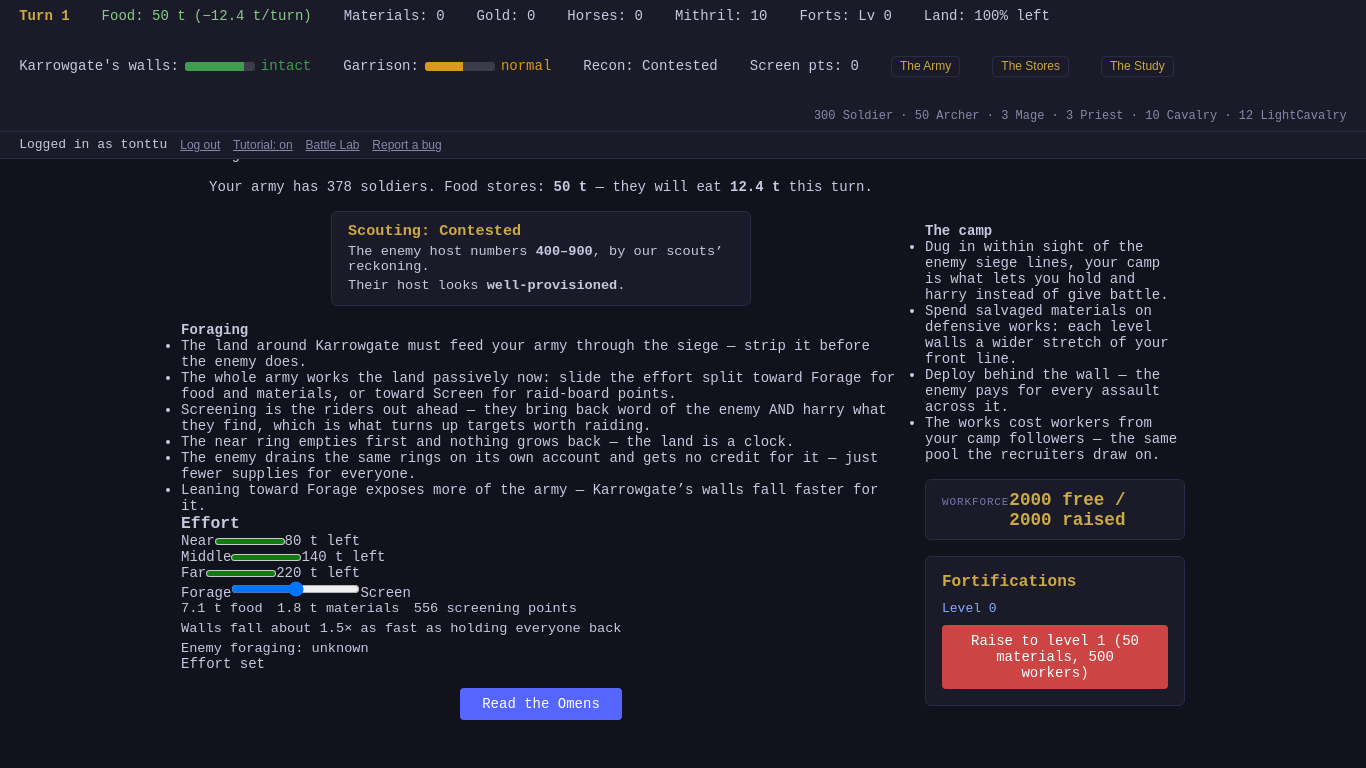
Test: a choice-fate in the day report › shows the option cards and blocks the reveal until the player chooses
(page scrolled)
Click the button with test id "to-omens" at [541, 704], box [460,688,622,720]
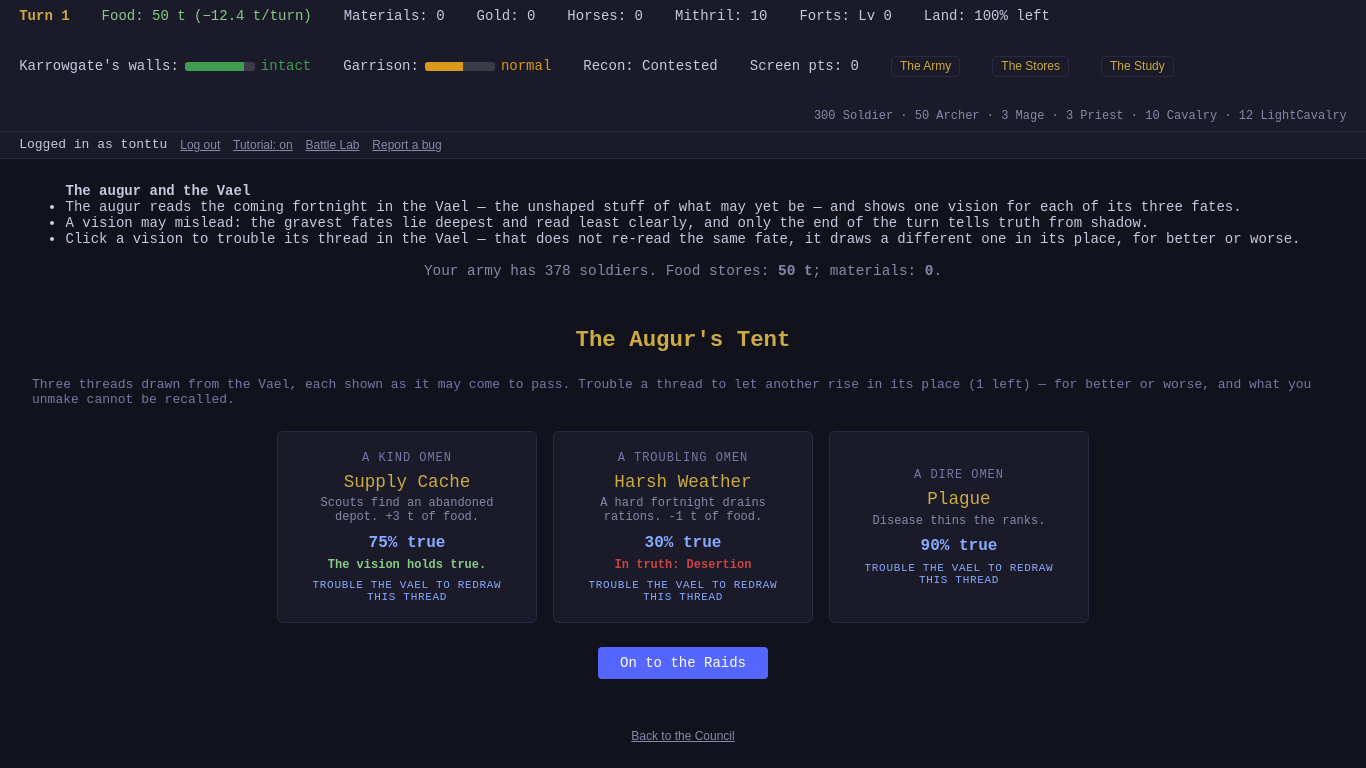
Click the button with test id "augury-continue" at [683, 663], box [598,647,768,679]
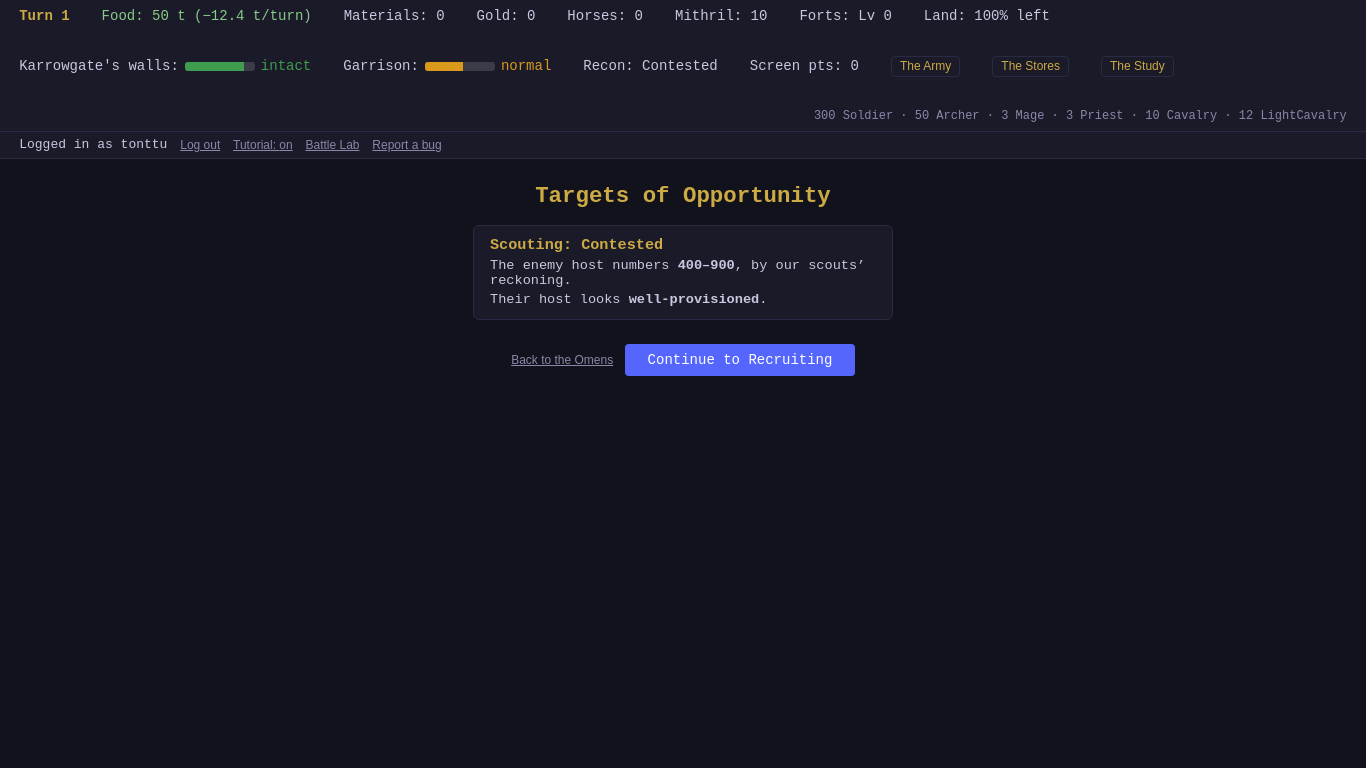
Expected: the heading "Targets of Opportunity" is shown, [535,183,831,209]
Click the button with test id "to-recruit" at [740, 360], box [625,344,855,376]
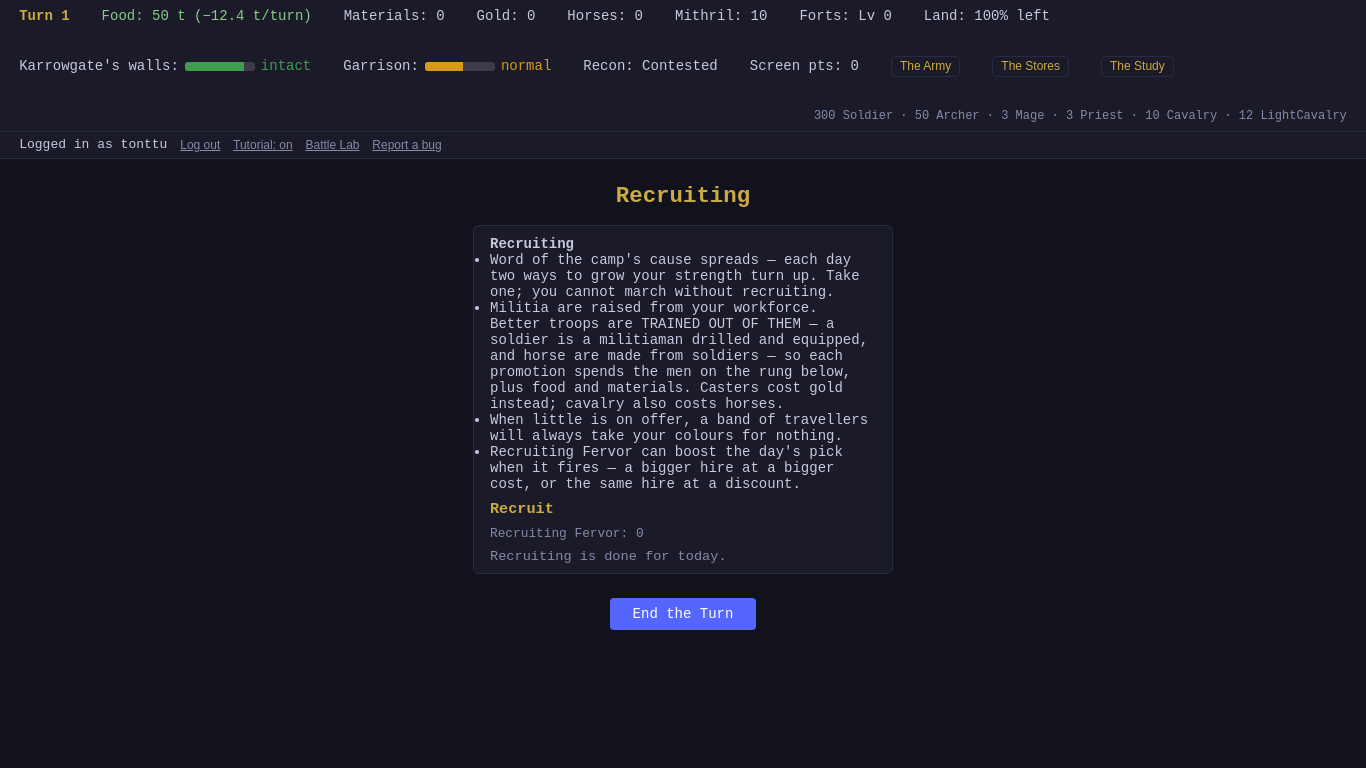
Expected: the button with test id "to-deploy" is shown
Click the button with test id "to-deploy" at [683, 614], box [610,598,756,630]
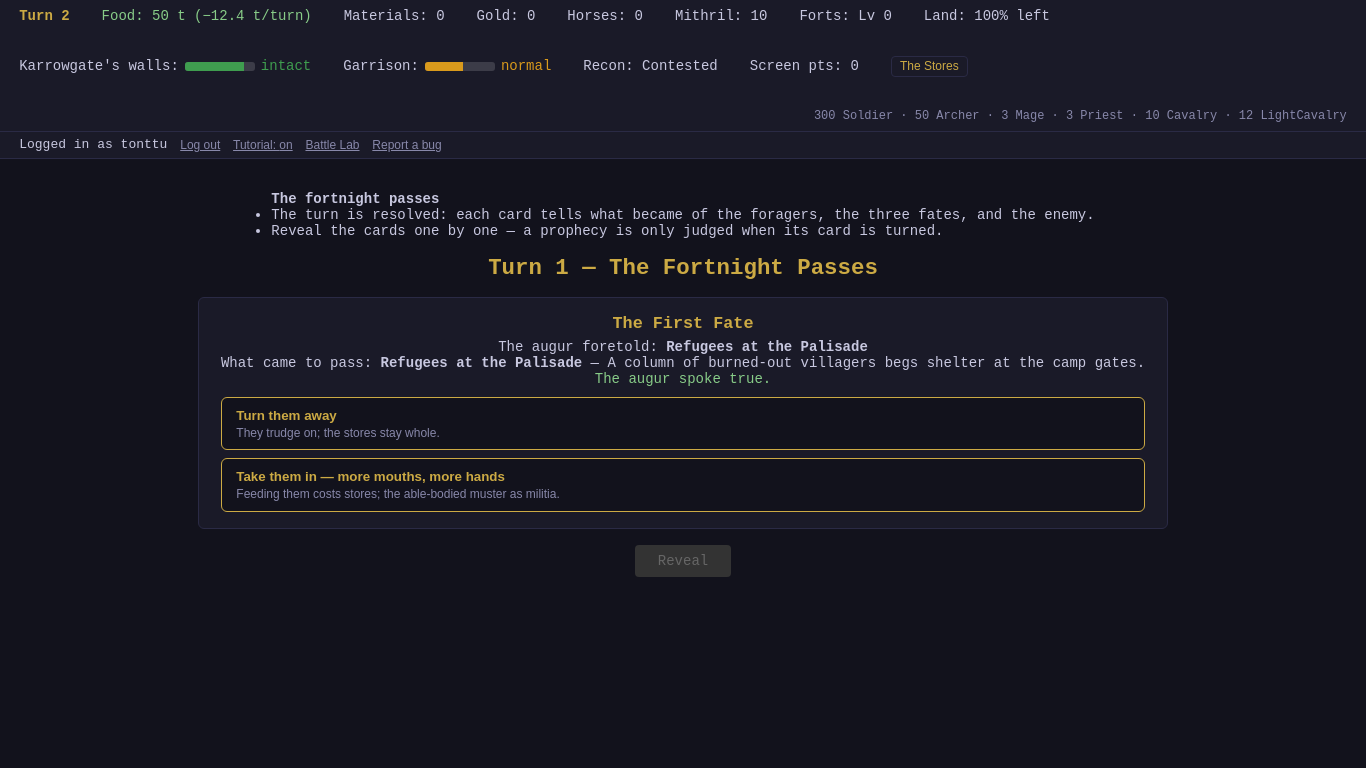
Expected: the element with test id "reveal-beat-fate-0" is shown, [198,297,1168,529]
Expected: the button with test id "choice-turn_away" shows "Turn them away", [221,397,1145,450]
Expected: the button with test id "choice-take_in" shows "more mouths, more hands", [221,458,1145,512]
